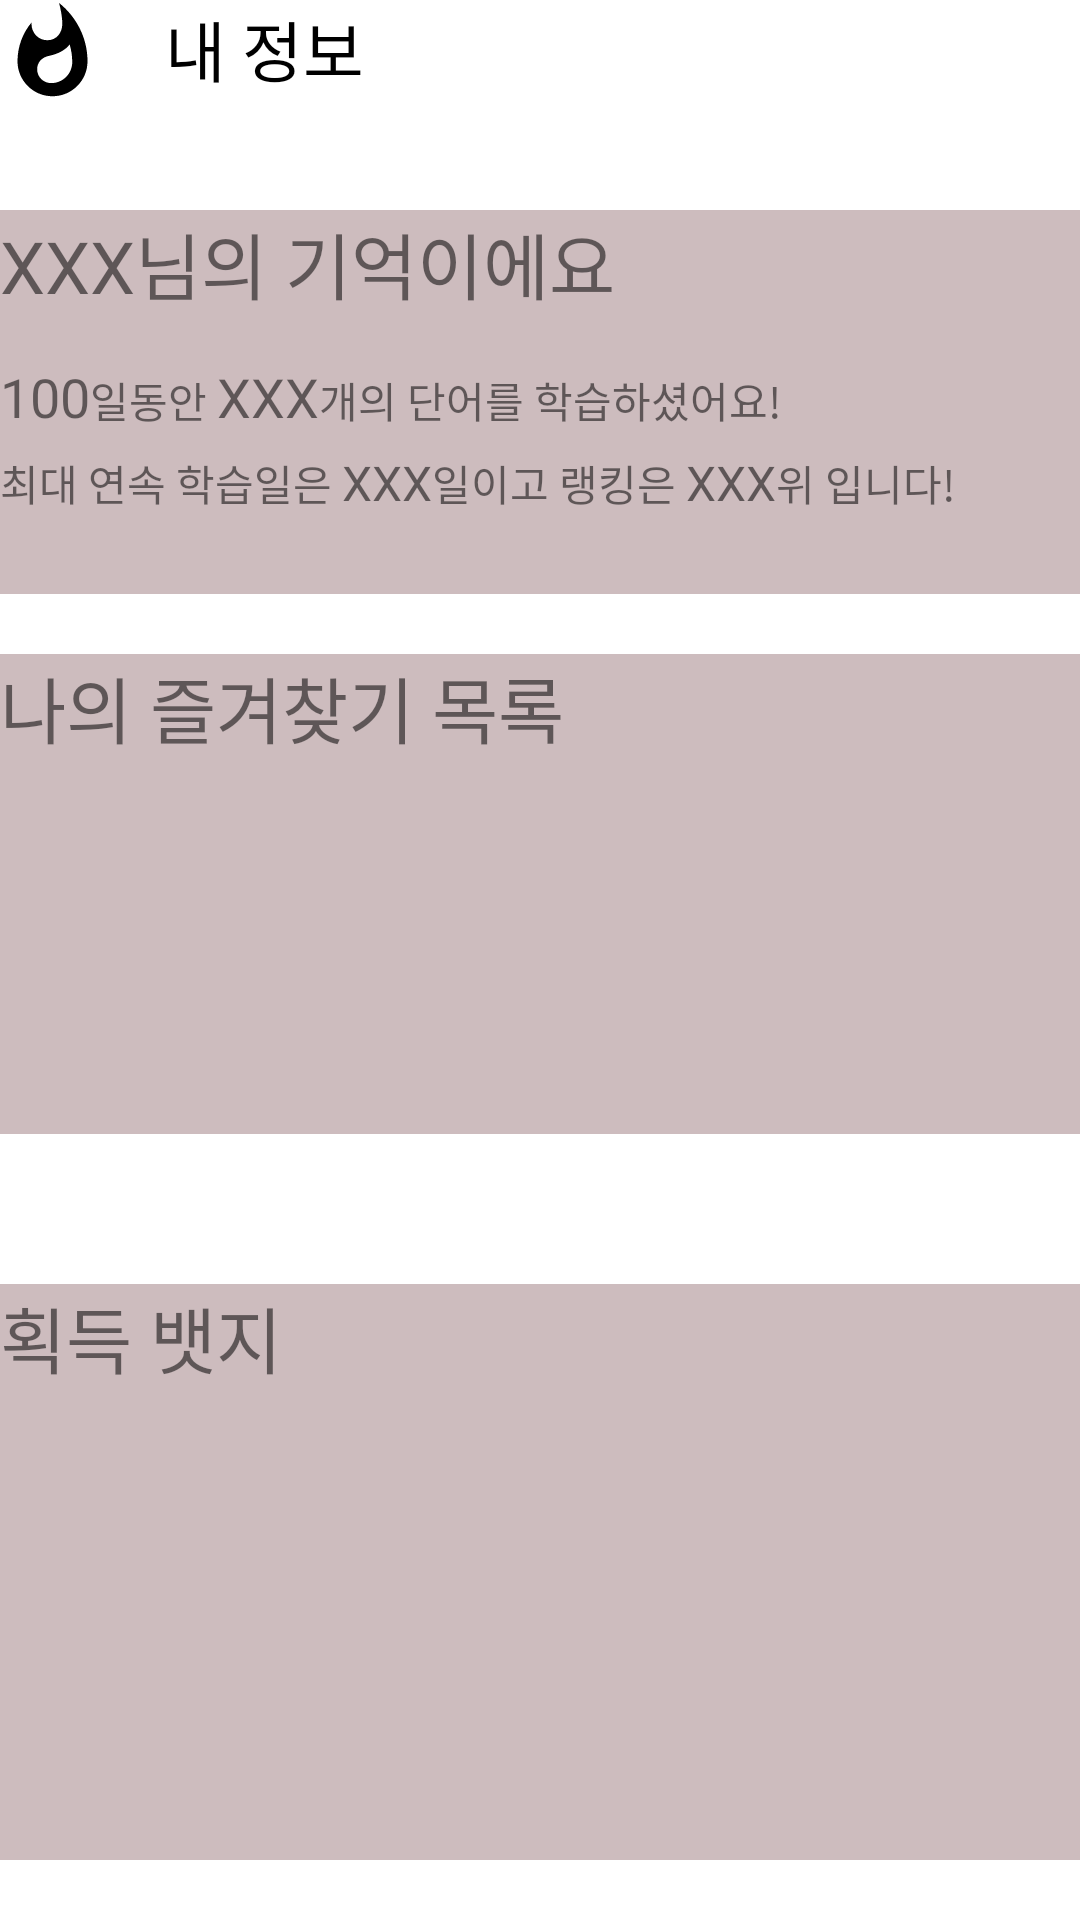

Locate icon controls on the screen. Image size 1080px×1920px, boxes as (x1, y1, x2, y2).
whatshot: (17, 3, 88, 97)
